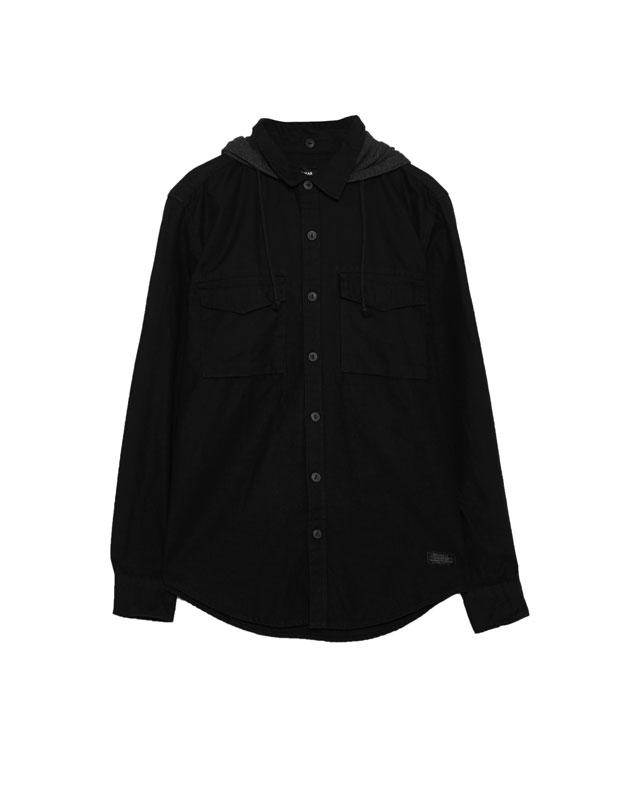teeshirt: (105, 109, 542, 641)
